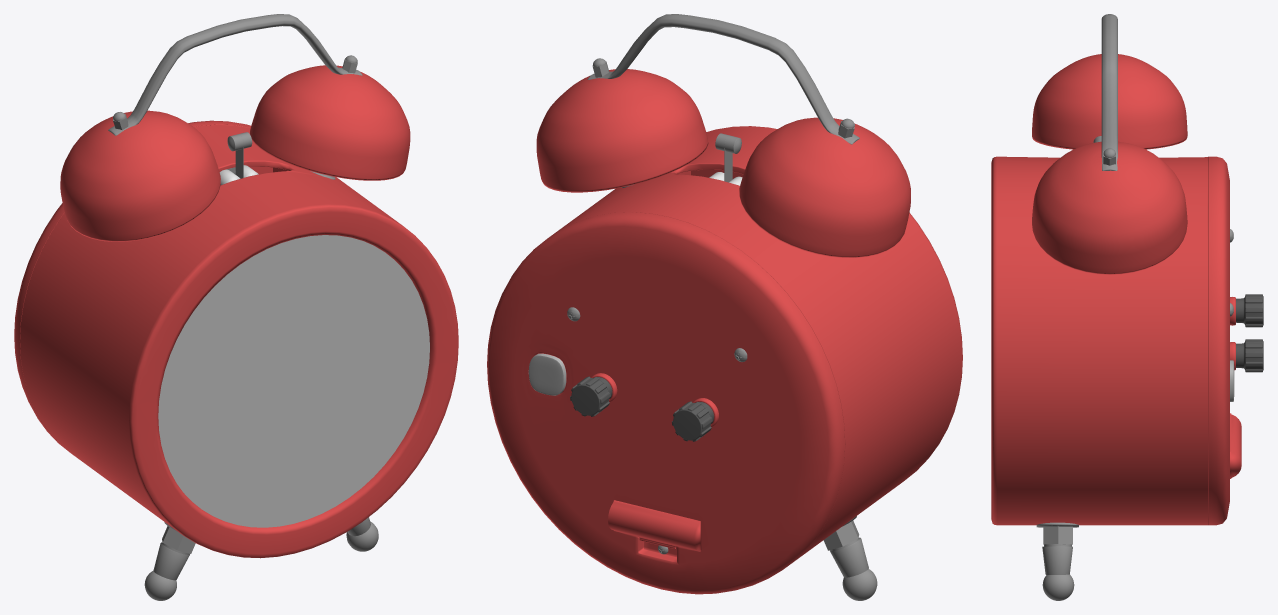
Rendered from AlarmClock.fbx.
The picture shows the model from 3 angles, left to right: view 1: azimuth 30°, elevation 25°; view 2: azimuth 150°, elevation 25°; view 3: azimuth 270°, elevation 25°; orthographic projection. The views are drawn at different scales.
Visible parts, largest first — view 1: Clock_Base, Glass, R_Bell1, L_Bell1, Handle, metal_cylander1, metal_sphere1; view 2: Clock_Base, R_Bell1, L_Bell1, Handle, Battery_Cap, Nob1, Nob2, metal_cylander1, metal_sphere1; view 3: Clock_Base, L_Bell1, R_Bell1, Handle, Nob1, Nob2, Metal_cylander1, Metal_sphere1, Battery_Cap, bolt1.
Boxes of the visible parts, x1,y1,x2,y2 form: Clock_Base: (14,120,458,558); Glass: (158,235,429,527); R_Bell1: (60,110,220,241); L_Bell1: (250,65,410,180); Handle: (108,14,362,135); metal_cylander1: (153,542,189,580); metal_sphere1: (144,571,176,600); Clock_Base: (487,126,962,594); R_Bell1: (739,117,910,257); L_Bell1: (536,69,708,192); Handle: (587,14,859,144); Battery_Cap: (608,500,700,551); Nob1: (570,376,612,416); Nob2: (672,401,714,441); metal_cylander1: (829,537,868,577); metal_sphere1: (842,569,877,600); Clock_Base: (991,156,1234,525); L_Bell1: (1032,141,1187,274); R_Bell1: (1032,54,1187,149); Handle: (1101,14,1117,170); Nob1: (1236,339,1263,372); Nob2: (1236,294,1263,327); Metal_cylander1: (1042,546,1072,574); Metal_sphere1: (1042,574,1074,600); Battery_Cap: (1230,413,1241,478); bolt1: (1043,526,1072,544).
Bounding box in the file's own units: 6.37 × 9.86 × 4.7.
